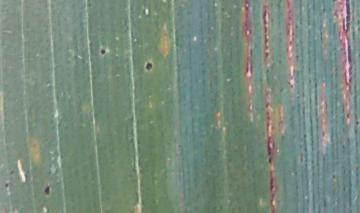tarspot: (140, 56, 156, 72), (43, 184, 53, 199), (99, 45, 108, 59), (3, 182, 11, 188)
